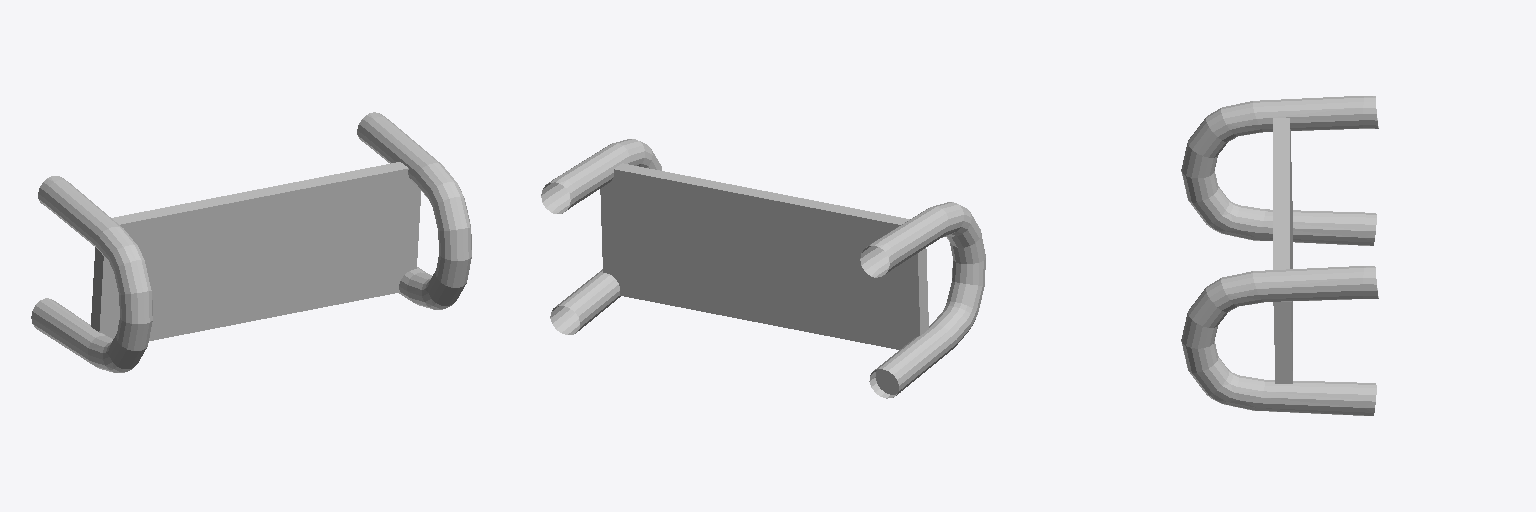
File: Bank.obj
The picture shows the model from 3 angles: view 1: azimuth 30°, elevation 25°; view 2: azimuth 150°, elevation 25°; view 3: azimuth 270°, elevation 25°; orthographic projection.
Parts seen in each view (by area): view 1: Obj_fromNurbs#7, Obj_fromNurbs#9, Obj_fromNurbs#2, Obj_fromNurbs#5, Obj_fromNurbs#4; view 2: Obj_fromNurbs#8, Obj_fromNurbs#9, Obj_fromNurbs#2, Obj_fromNurbs#5, Obj_fromNurbs#4; view 3: Obj_fromNurbs#2, Obj_fromNurbs#9, Obj_fromNurbs#5, Obj_fromNurbs#3.
Boxes of the visible parts, box(x1,y1,x2,y2) form: Obj_fromNurbs#7: box(99, 168, 420, 340); Obj_fromNurbs#9: box(31, 176, 152, 372); Obj_fromNurbs#2: box(357, 112, 471, 309); Obj_fromNurbs#5: box(112, 162, 407, 224); Obj_fromNurbs#4: box(91, 247, 103, 331); Obj_fromNurbs#8: box(600, 169, 919, 349); Obj_fromNurbs#9: box(860, 202, 985, 398); Obj_fromNurbs#2: box(541, 139, 661, 334); Obj_fromNurbs#5: box(614, 163, 909, 224); Obj_fromNurbs#4: box(918, 248, 928, 335); Obj_fromNurbs#2: box(1181, 266, 1378, 415); Obj_fromNurbs#9: box(1181, 96, 1378, 245); Obj_fromNurbs#5: box(1273, 118, 1289, 269); Obj_fromNurbs#3: box(1273, 302, 1292, 383).
Size of the model in its own units: 18.45 by 8.22 by 8.86.